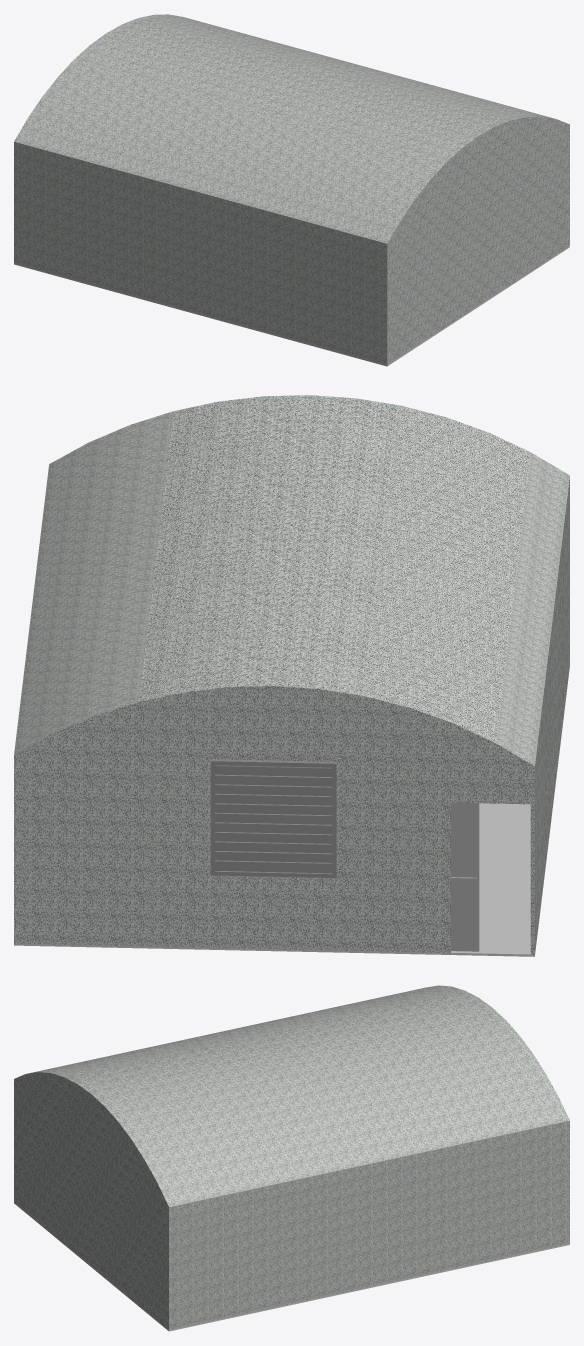
The model's file is C棟附屬.gltf.
3 views of the same model, one above another, from view 1: azimuth 30°, elevation 25°; view 2: azimuth 150°, elevation 25°; view 3: azimuth 270°, elevation 25° (orthographic). The views are drawn at different scales.
Bounding box in the file's own units: 9.26 × 3.48 × 10.13.
6 materials, 1 textured.
